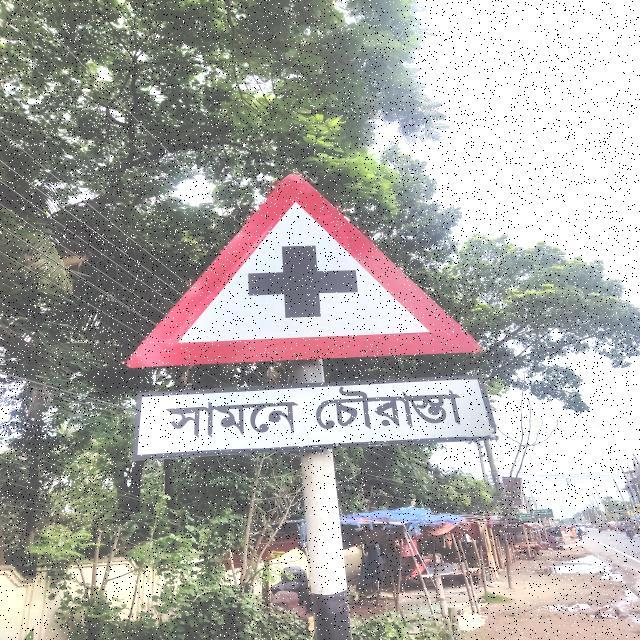Crossroads-ahead: (125, 165, 496, 458)
